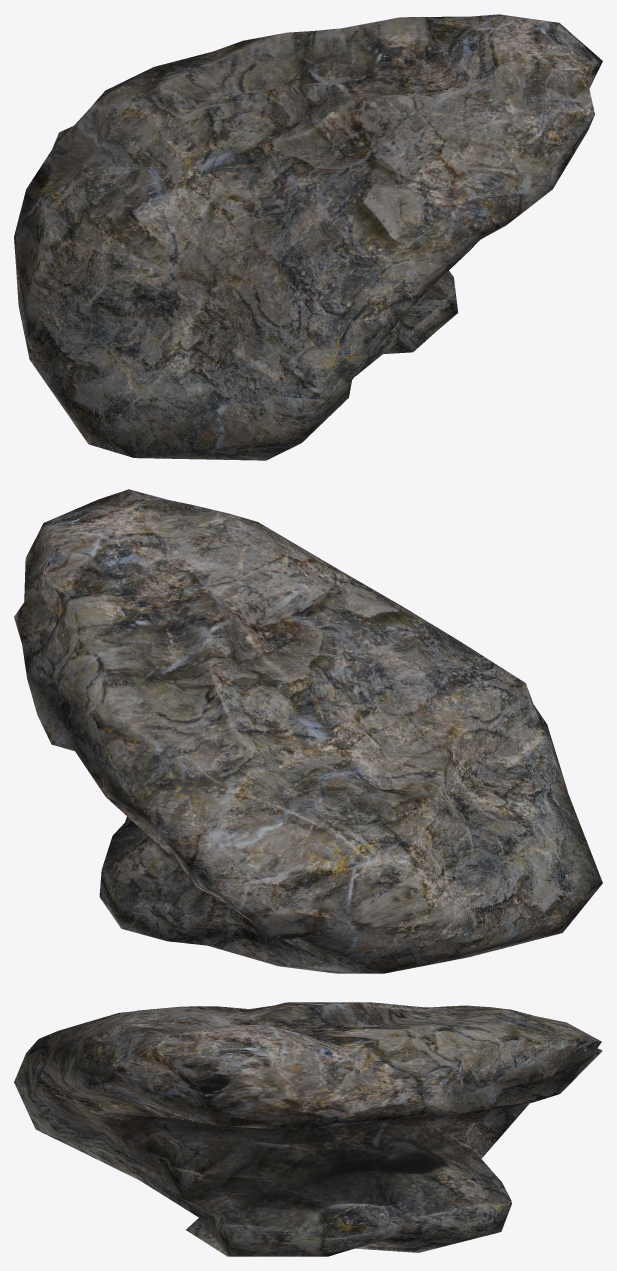
File: rock3.obj
3 renders of one model, top to bottom at view 1: azimuth 30°, elevation 25°; view 2: azimuth 150°, elevation 25°; view 3: azimuth 270°, elevation 25°, orthographic. The views are drawn at different scales.
Parts seen in each view (by area): view 1: rock_03; view 2: rock_03; view 3: rock_03.
Part boxes in pixels (x1=…): rock_03: x1=14, y1=14, x2=602, y2=460; rock_03: x1=14, y1=489, x2=602, y2=973; rock_03: x1=14, y1=1002, x2=602, y2=1256.
Bounding box in the file's own units: 6 × 3.4 × 6.
